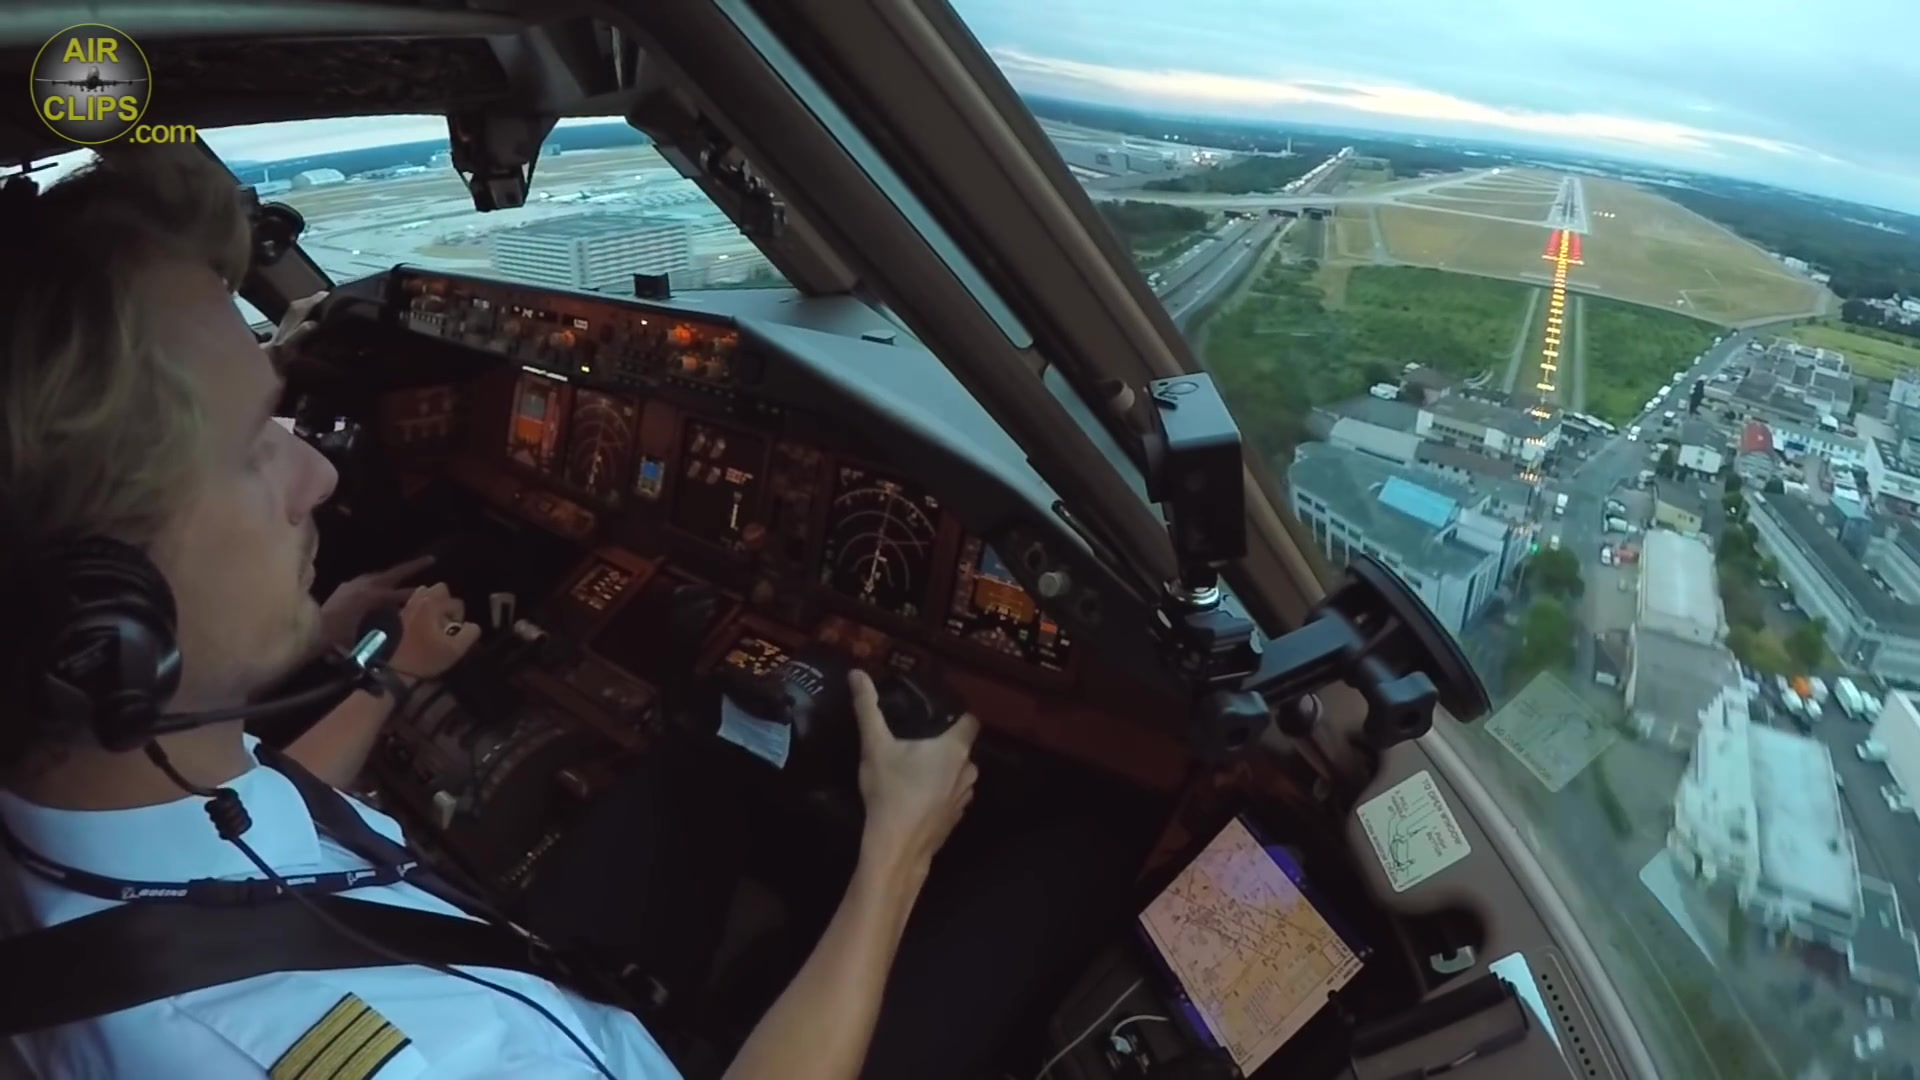runway: (1539, 177, 1590, 235)
